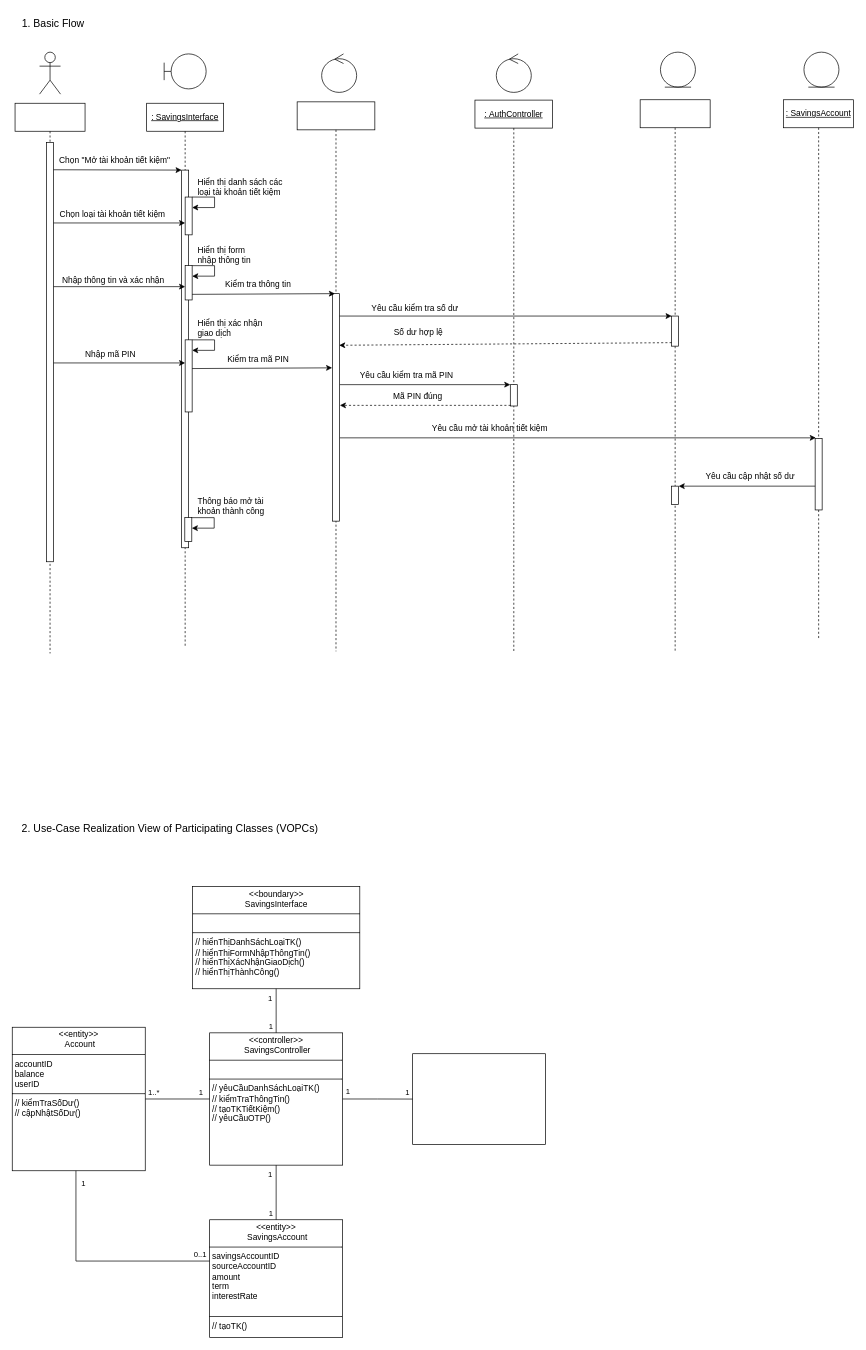
Image size: 866x1350. Some labels were removed from this diagram. The shapes that lost their labels are listed below. From the top down, each one's box as (x1, y1, x2, y2) in pixels, then its label:
(14, 103, 85, 653): : Customer
(296, 101, 375, 651): : SavingsController
(639, 99, 710, 651): : Account
(412, 1053, 546, 1144): << controller >> AuthController // kiểmTraPIN()
